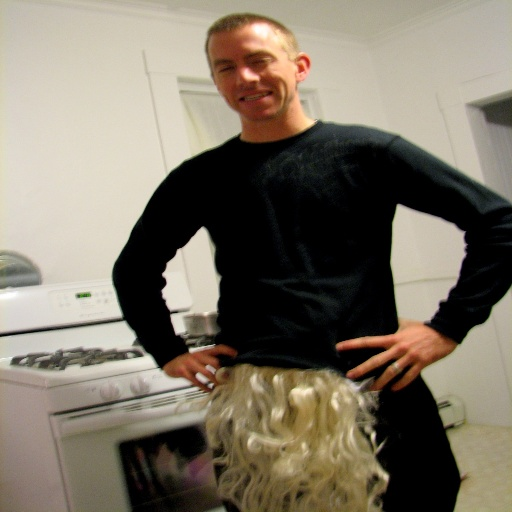hand: (329, 315, 459, 395), (163, 347, 231, 389)
